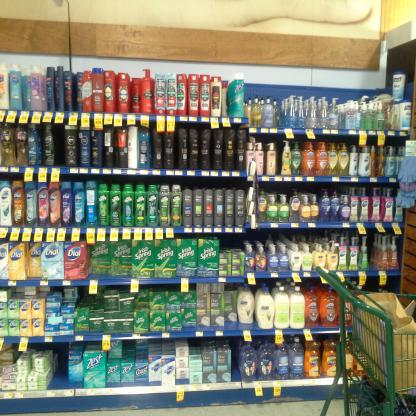Void: (52, 127, 64, 166), (54, 347, 68, 380), (220, 232, 241, 250), (232, 342, 240, 379), (77, 288, 87, 302)
